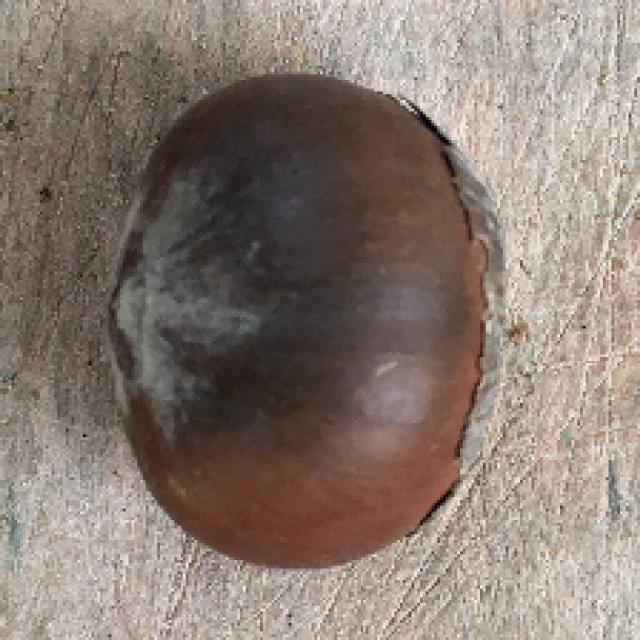damagedHazelnut: (94, 60, 523, 569)
